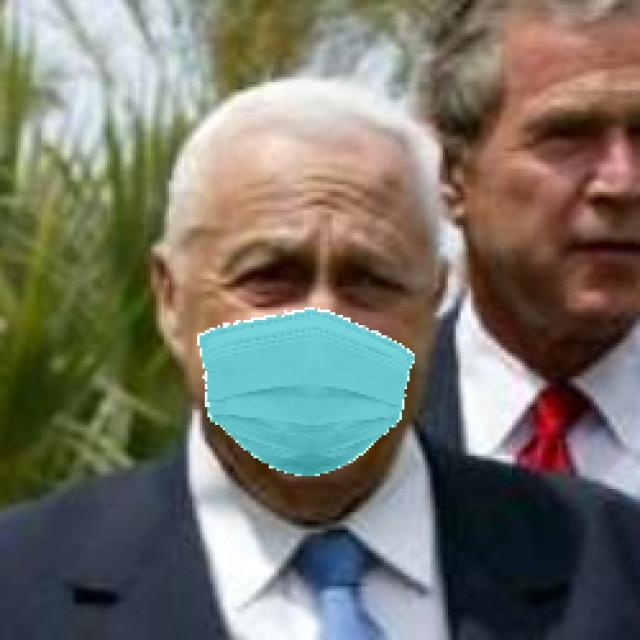mask: (186, 293, 429, 501)
